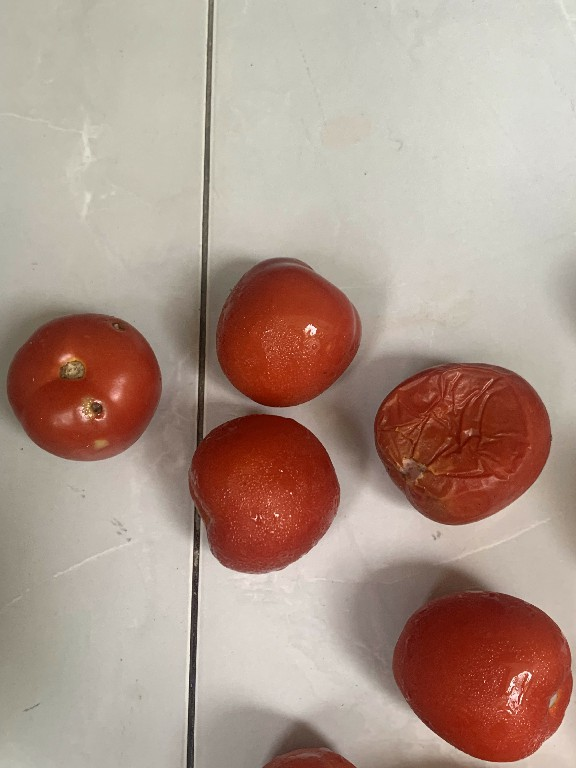NG: (376, 355, 553, 534), (3, 301, 166, 475)
OK: (374, 579, 573, 768), (179, 400, 349, 586), (200, 244, 365, 419)
